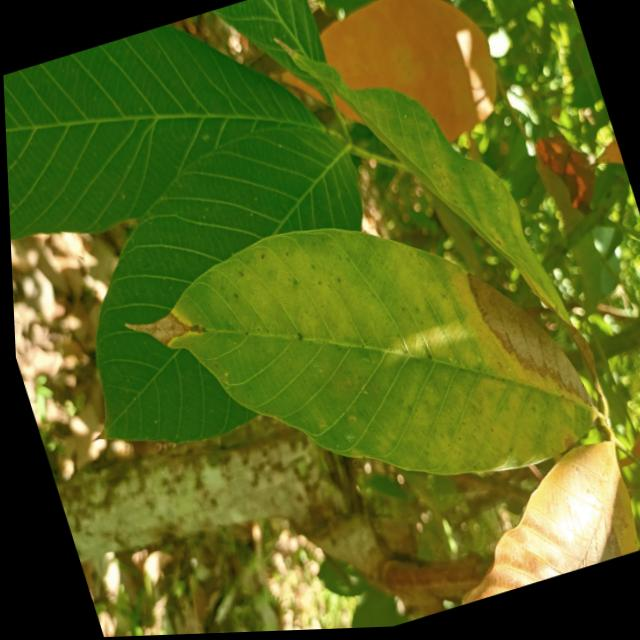Colletotrichum: (230, 294, 235, 301), (235, 273, 240, 278)
Leaf-Blight: (461, 255, 547, 388), (526, 301, 587, 410), (117, 300, 187, 356)
